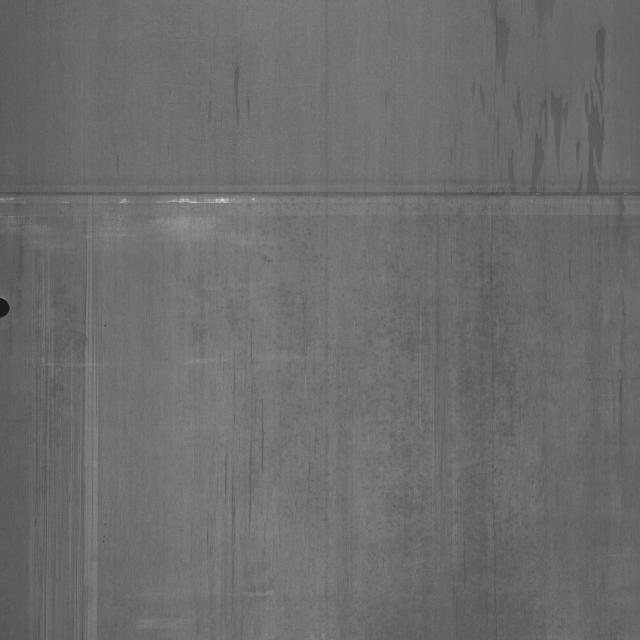crease: (1, 166, 640, 213)
crescent_gap: (0, 272, 20, 332)
